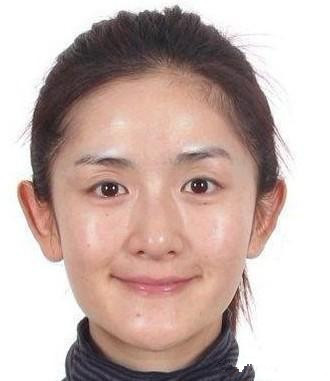unmask: (55, 113, 257, 346)
